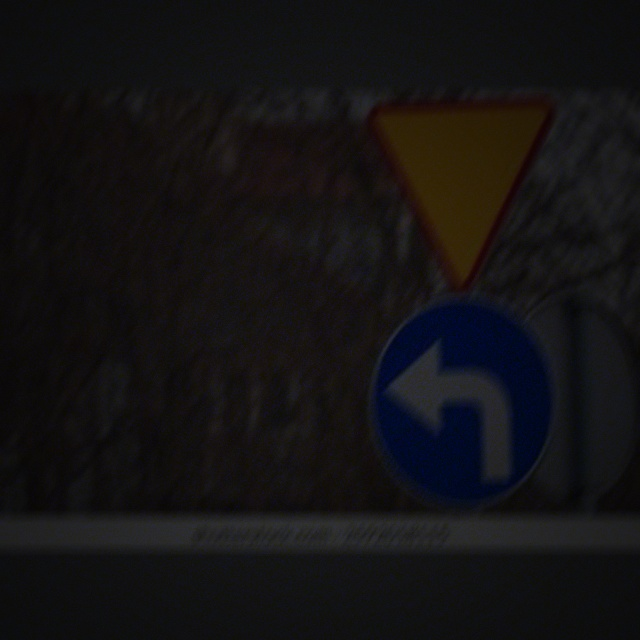Compulsory_Turn_Left_Ahead: (370, 298, 551, 503)
